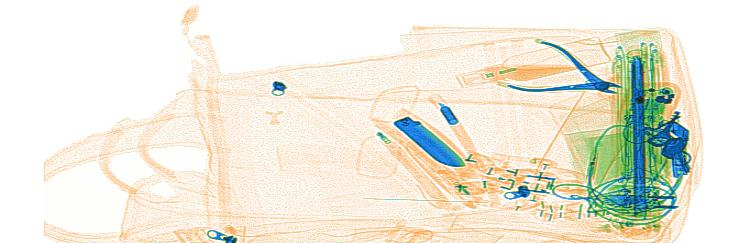knife: (392, 109, 472, 172)
plasticBottleWithaNozzle: (454, 41, 613, 89)
